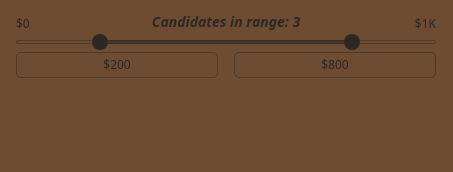
Test: CandidateRangeSlider › does not commit an invalid typed value until blur, then snaps to the nearest boundary
This screenshot has width=453, height=172.
Step 1. Replace the text in the field named "Minimum total spending amount" with "999" → (117, 65), box [16,52,218,78]
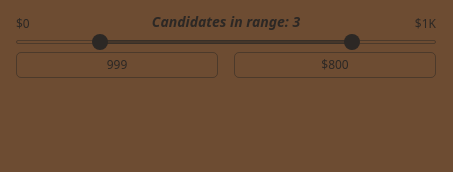
Step 2. Leave the field named "Minimum total spending amount", box [16,52,218,78]
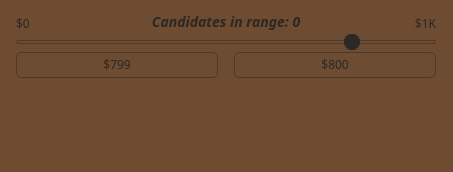
Check: the field named "Minimum total spending amount" holds "$799", box [16,52,218,78]
